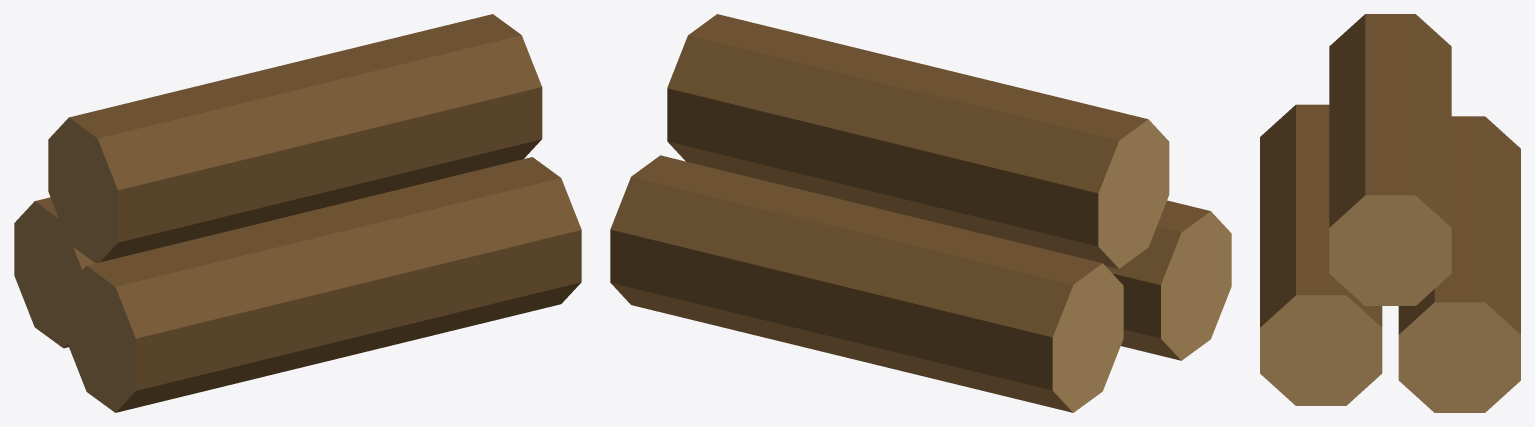
The model's file is item_rm_logs_c.obj.
The picture shows the model from 3 angles, left to right: view 1: azimuth 30°, elevation 25°; view 2: azimuth 150°, elevation 25°; view 3: azimuth 270°, elevation 25°; orthographic projection. The views are drawn at different scales.
Size of the model in its own units: 0.85 by 0.422 by 0.4738.
